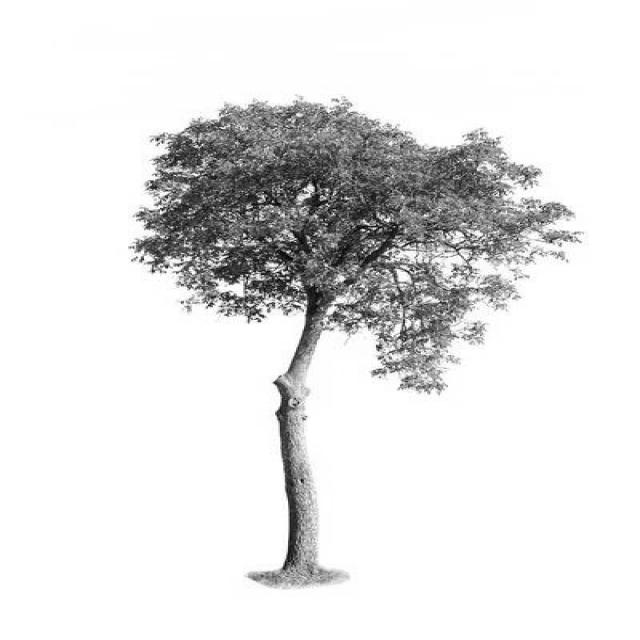Tree: (133, 101, 579, 587)
